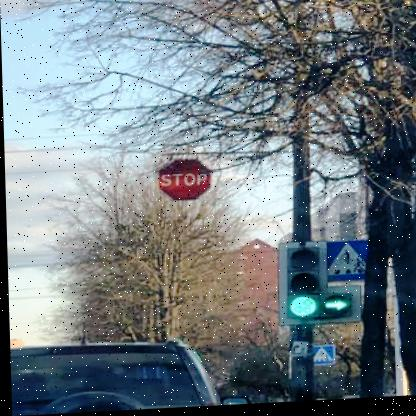Stop Sign: (151, 153, 215, 208)
